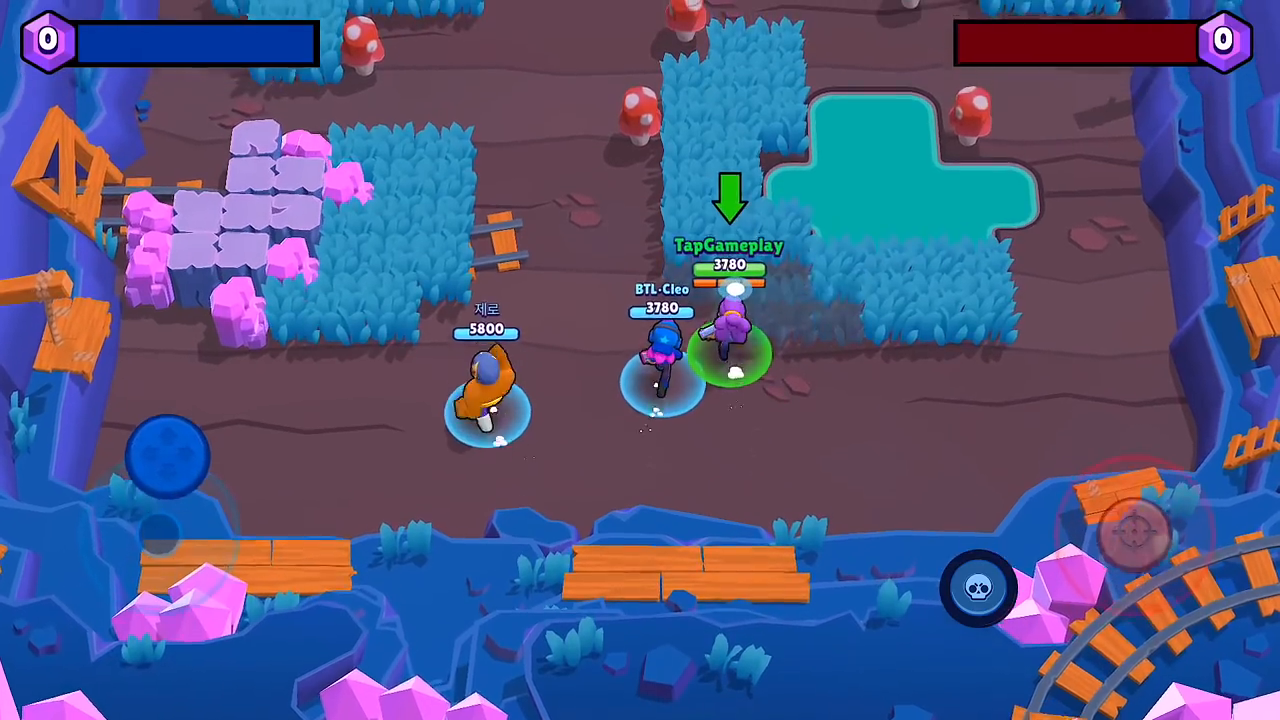move_stick: (133, 418, 207, 496)
